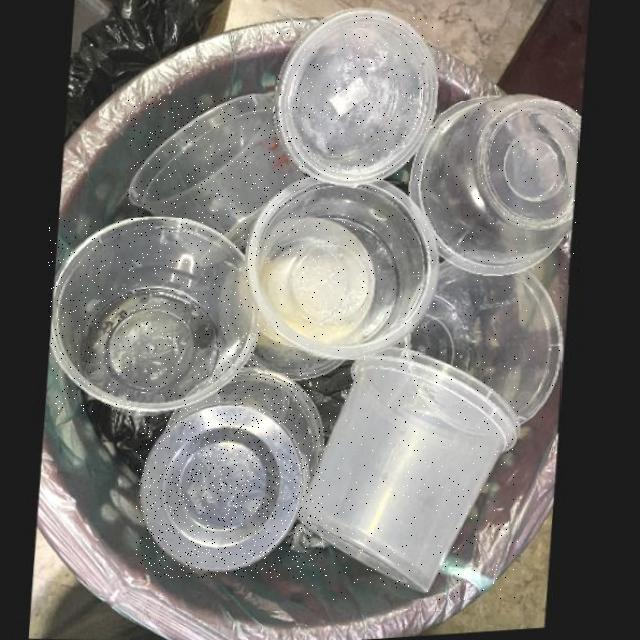plastic: (295, 354, 518, 600), (48, 219, 258, 414), (136, 374, 323, 578), (243, 181, 438, 365), (408, 102, 579, 285), (275, 16, 439, 193), (127, 97, 306, 257), (403, 269, 561, 433), (164, 232, 229, 271)
